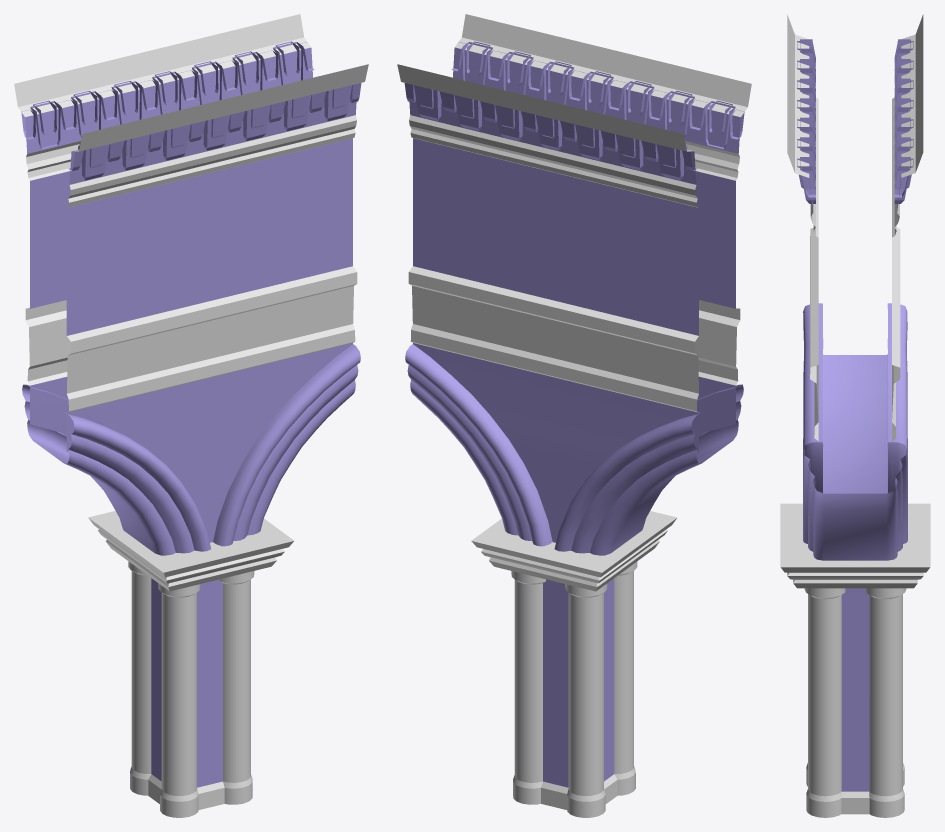
The model's file is Arch Middle v2.fbx.
The picture shows the model from 3 angles, left to right: view 1: azimuth 30°, elevation 25°; view 2: azimuth 150°, elevation 25°; view 3: azimuth 270°, elevation 25°; orthographic projection.
Visible parts, largest first — view 1: Arch Middle v2_LOD0; view 2: Arch Middle v2_LOD0; view 3: Arch Middle v2_LOD0.
Part boxes in pixels (left/top/right/bottom): Arch Middle v2_LOD0: left=14, top=14, right=368, bottom=817; Arch Middle v2_LOD0: left=397, top=14, right=751, bottom=817; Arch Middle v2_LOD0: left=780, top=14, right=930, bottom=817.
Size of what is drawn, in the model's own units: 352 by 844 by 161.
